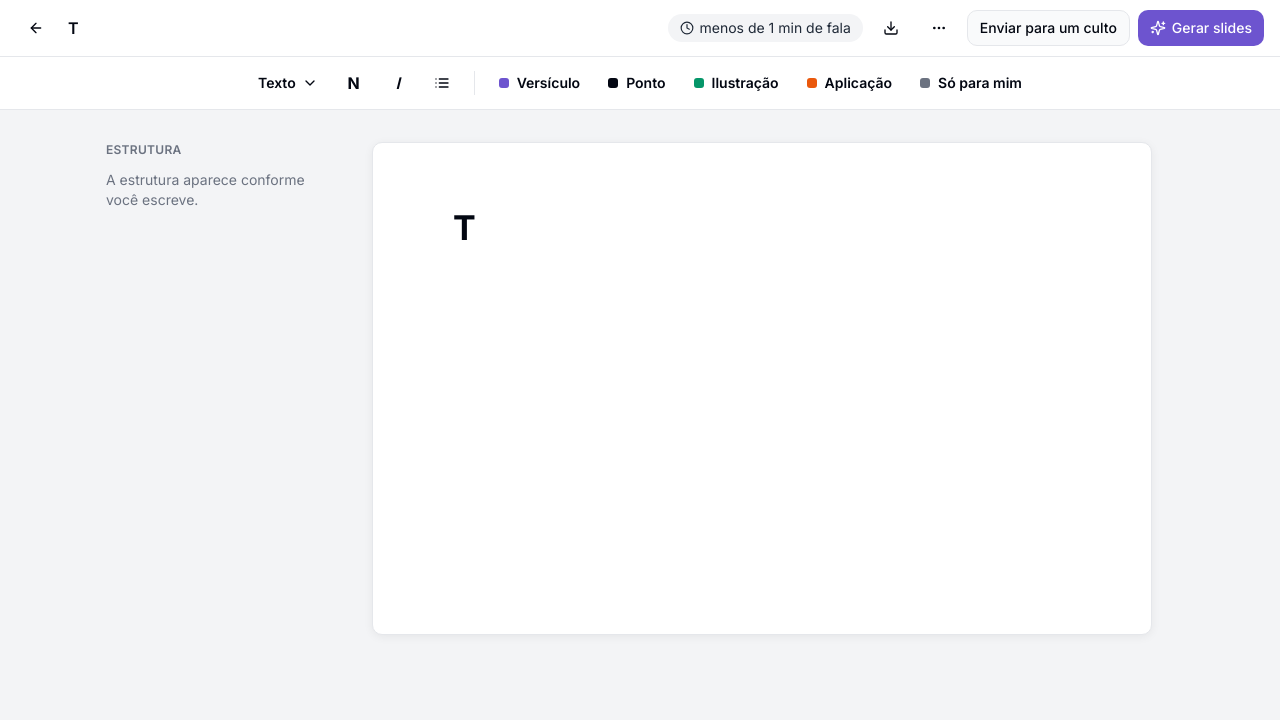
Test case: SermonEditorPage › Exportar abre o diálogo com o título que está na tela
Replace the text in the field named "Título da palavra" with "Título novo" at (762, 228), box [453,207,1071,250]
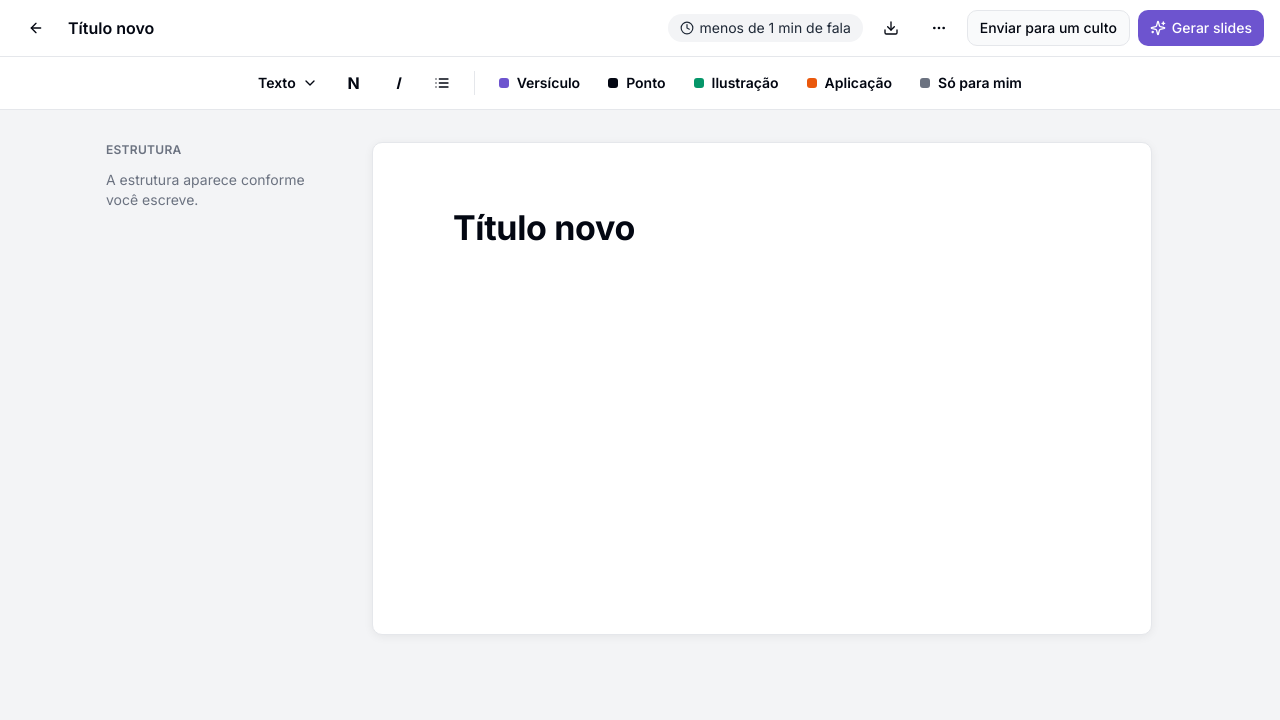
Click the button named "Exportar" at (891, 28), box [871,8,911,48]
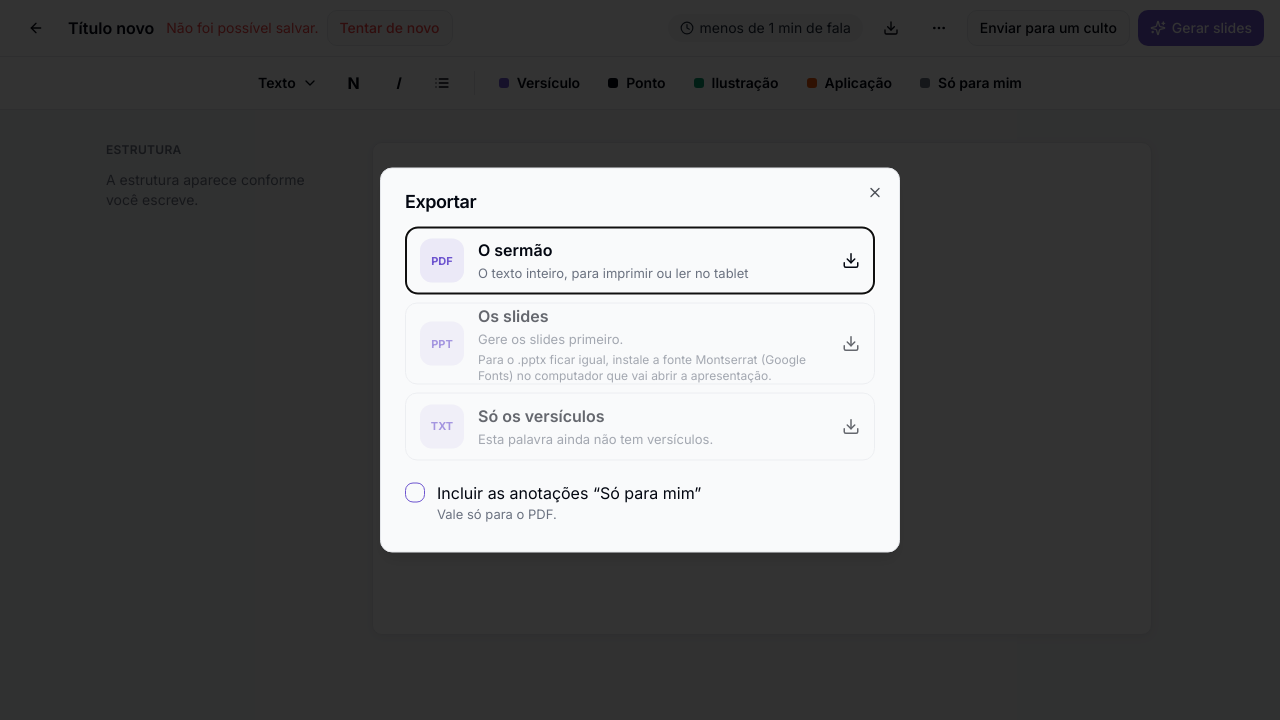
Now the heading "Exportar" is shown, box [405,190,476,212]
Now the text "Gere os slides primeiro." is shown, box [478,330,623,346]
